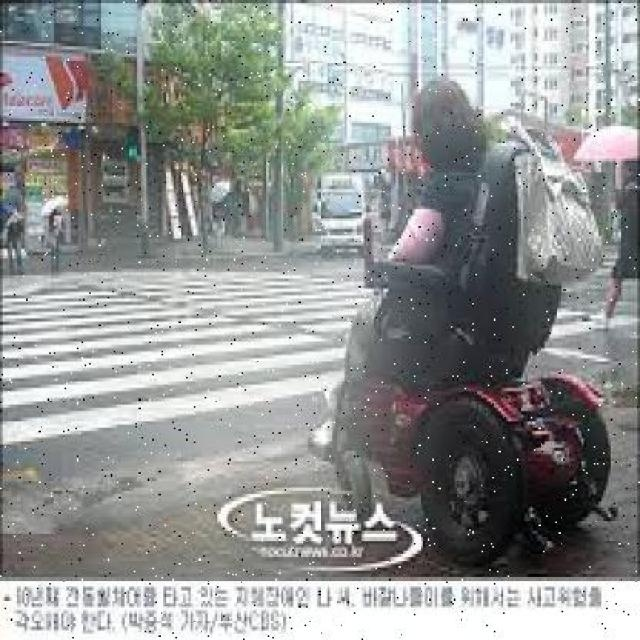obstacle: (314, 79, 618, 561), (45, 202, 63, 276)
